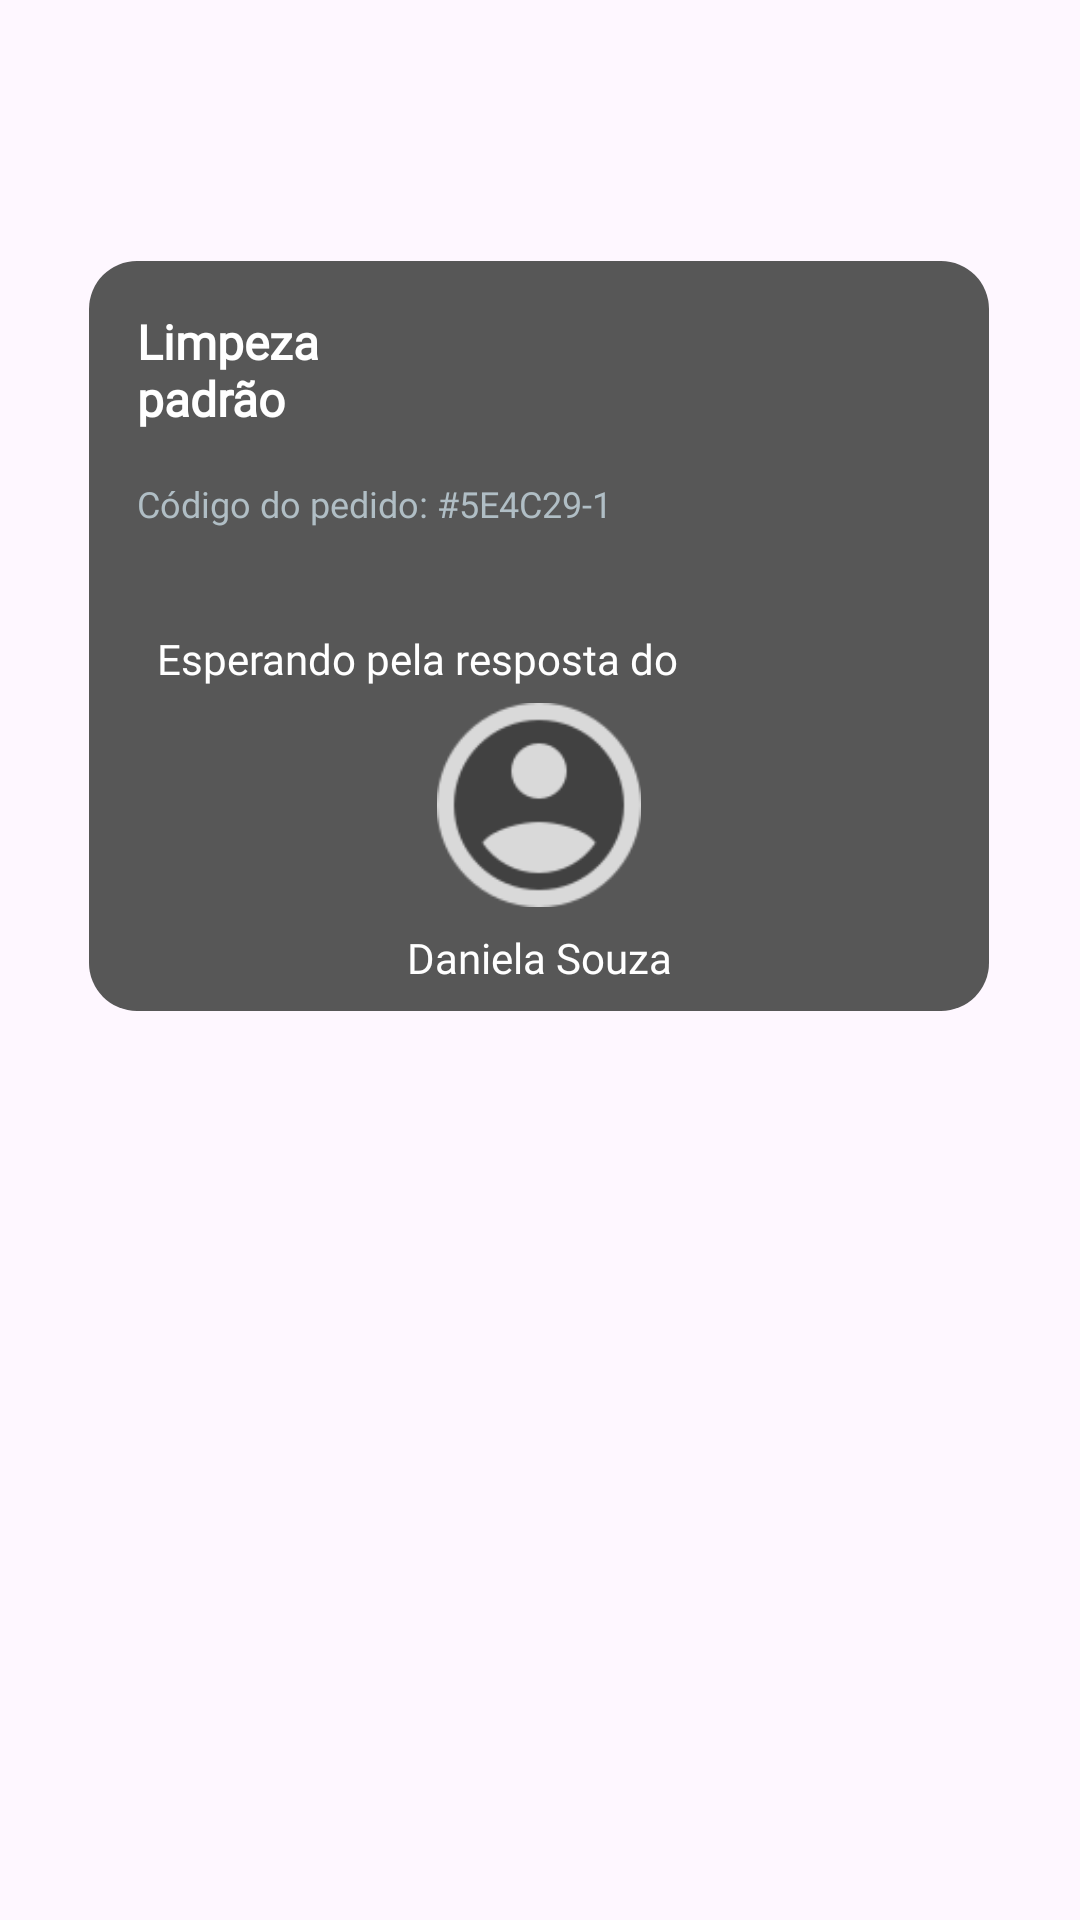

Screen size 1080px×1920px. Icon name, then its center in pixels as point (x, y):
fotodeperfil generica: point (539, 805)
